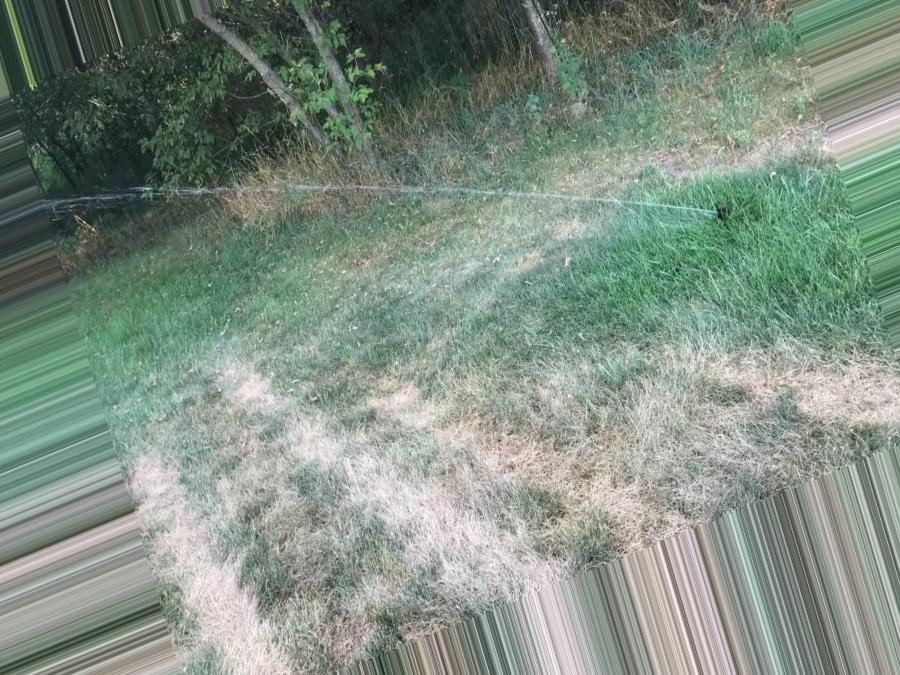patch: (194, 405, 459, 585), (453, 414, 592, 567), (585, 375, 708, 514), (185, 570, 367, 652), (722, 361, 858, 448), (160, 473, 253, 550)
